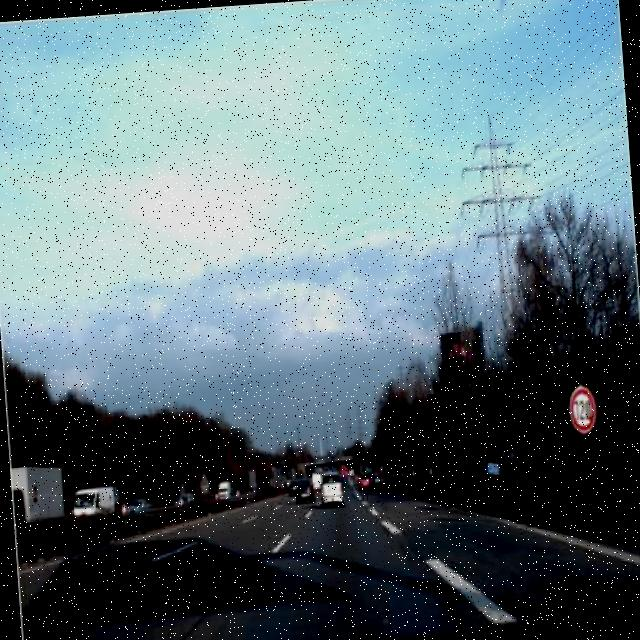Ograniczenie predkosci do 120: (564, 380, 598, 439)
